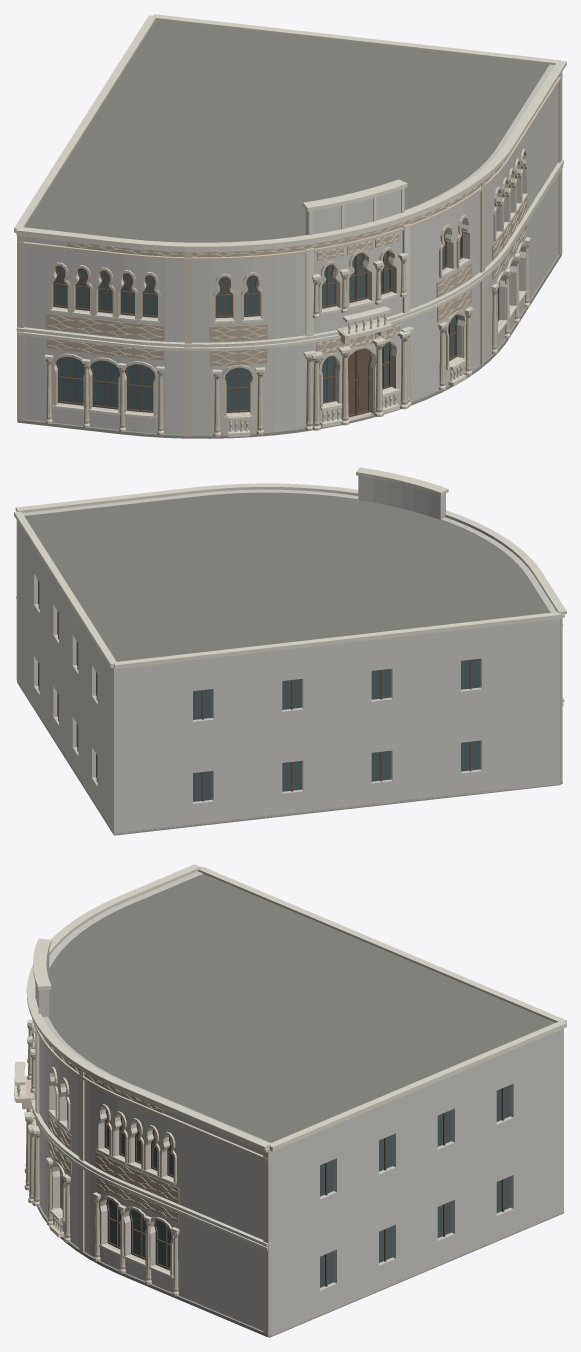
The model's file is hongkou-duolun-250-lod.glb.
3 views of the same model, one above another, from view 1: azimuth 30°, elevation 25°; view 2: azimuth 150°, elevation 25°; view 3: azimuth 270°, elevation 25° (orthographic). The views are drawn at different scales.
Parts seen in each view (by area): view 1: 多伦路250号住宅（弧形街面与中门）; view 2: 多伦路250号住宅（弧形街面与中门）; view 3: 多伦路250号住宅（弧形街面与中门）.
Boxes of the visible parts, box(x1,y1,x2,y2) form: 多伦路250号住宅（弧形街面与中门）: box(14, 14, 566, 438); 多伦路250号住宅（弧形街面与中门）: box(14, 467, 566, 835); 多伦路250号住宅（弧形街面与中门）: box(14, 864, 566, 1337).
Size of the model in its own units: 26.57 by 9.68 by 21.95.
